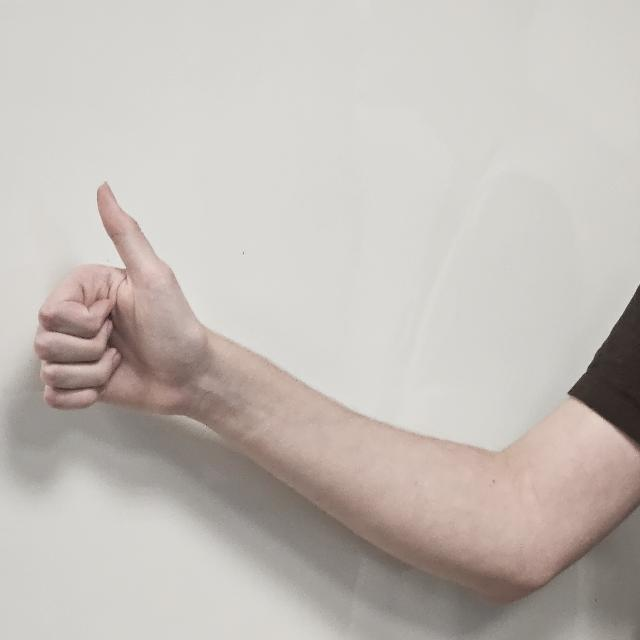Start: (31, 183, 211, 467)
